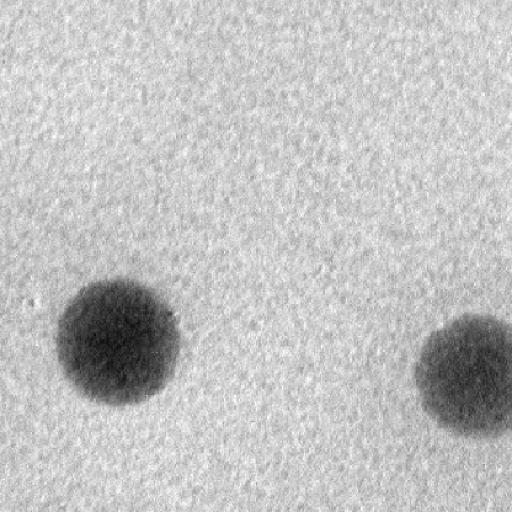Nanoparticles: (54, 278, 184, 406), (411, 309, 512, 439)
